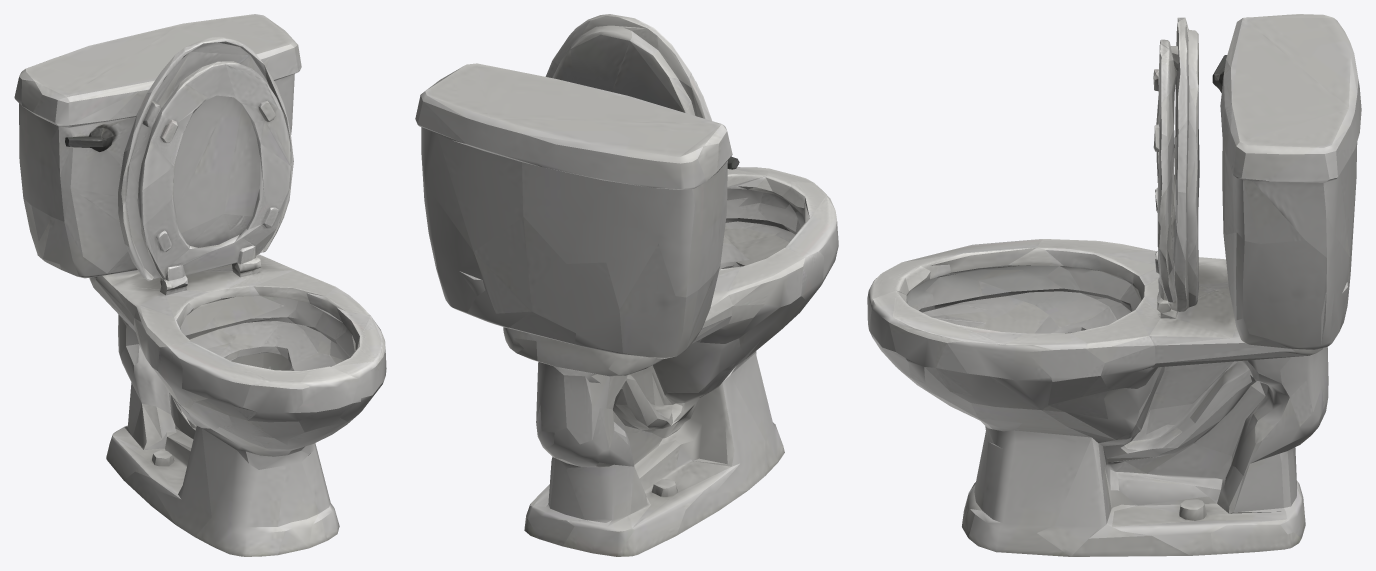
Rendered from toilet.glb.
3 renders of one model, left to right at view 1: azimuth 30°, elevation 25°; view 2: azimuth 150°, elevation 25°; view 3: azimuth 270°, elevation 25°, orthographic. The views are drawn at different scales.
Bounding box in the file's own units: 1.16 × 1.9 × 1.71.
Materials: 1 (1 with a texture image).
